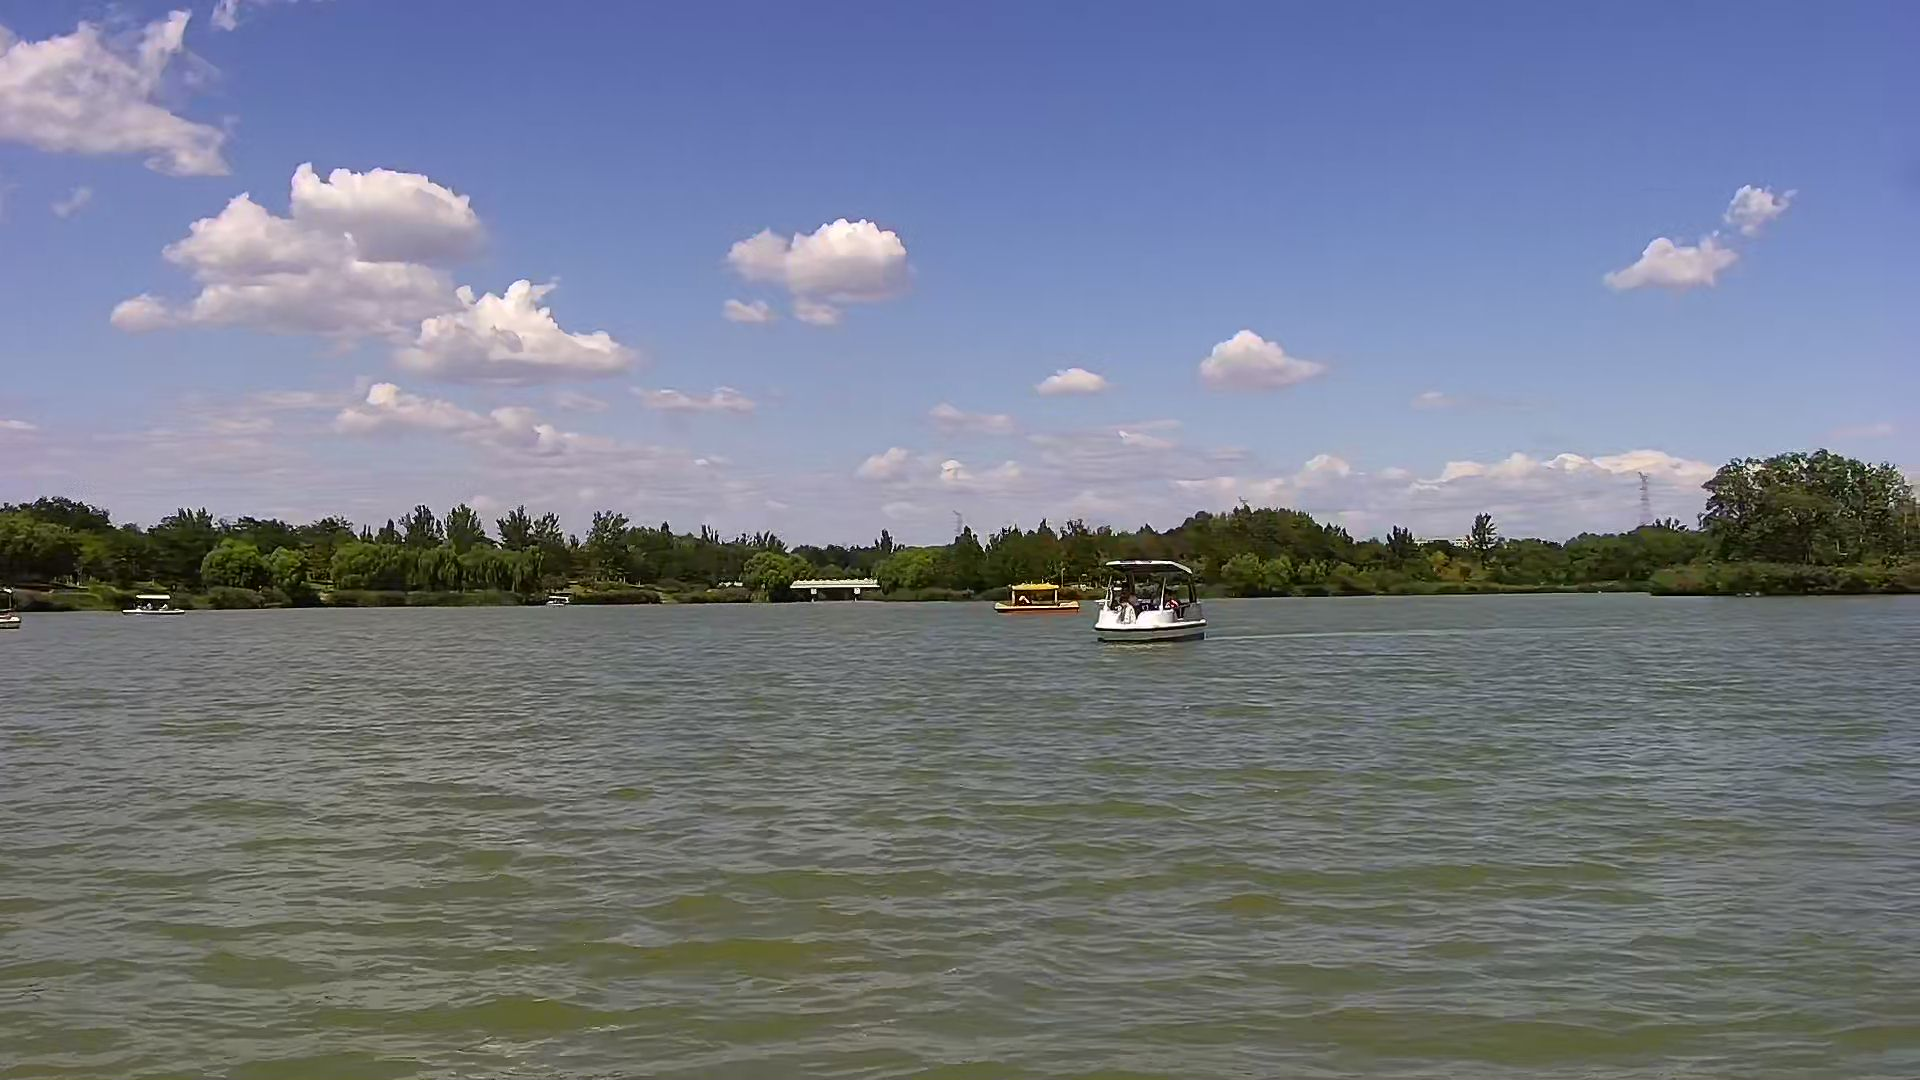boat: (1095, 556, 1207, 645), (996, 579, 1075, 609), (115, 591, 185, 620), (4, 587, 15, 622)
bridge: (791, 579, 874, 601)
